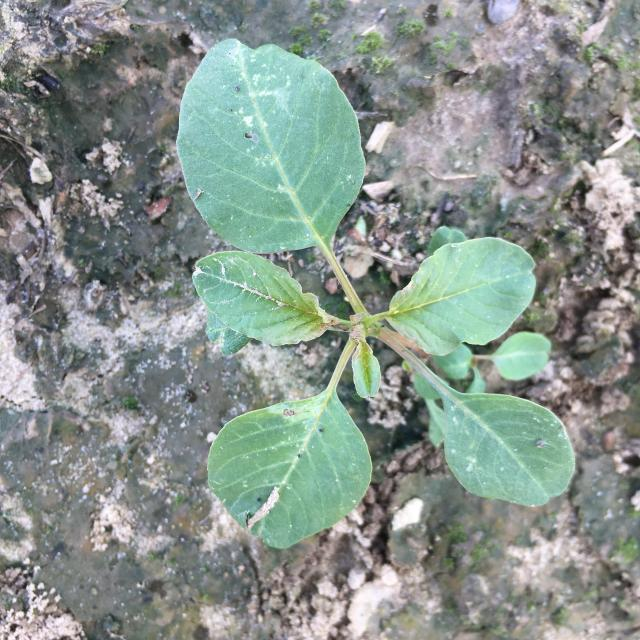PalmerAmaranth: (176, 38, 576, 549)
